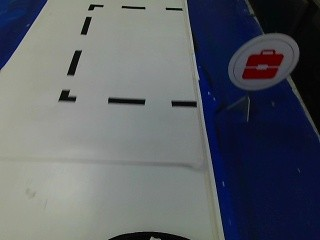company: (228, 36, 294, 90)
